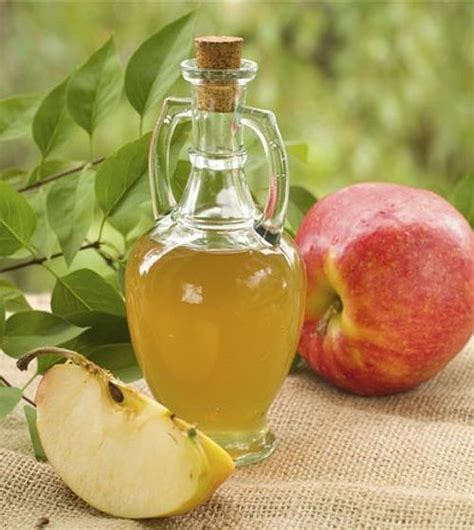apple: (288, 177, 474, 402)
